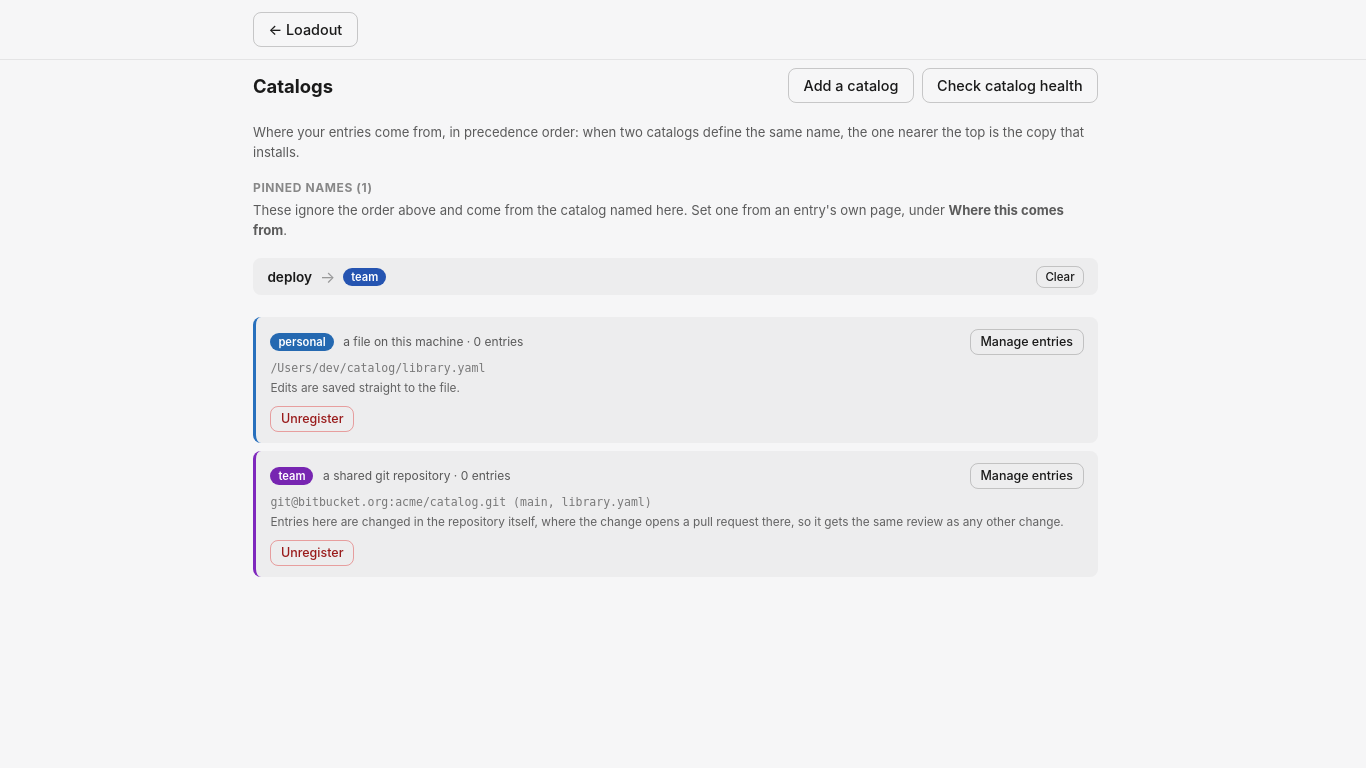
Scenario: UI-43: unregistering › asks first, offers to delete the copies and the clone, and reports what it did
Click the button with class "catalogs__unregister" below "a shared git repository · 0 entries": (312,553) [270,540,354,566]
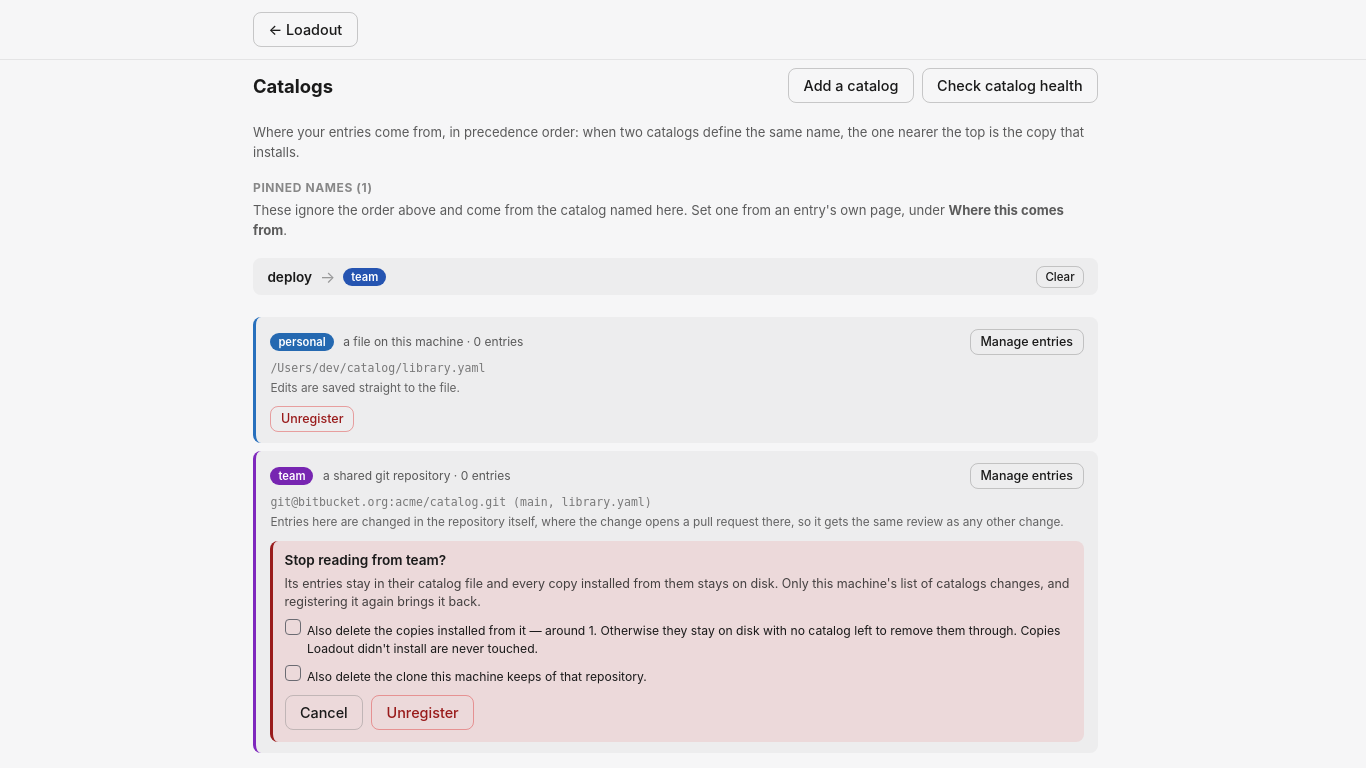
Expected: the text with class "catalogs__question" reads "Stop reading from team?", [285,552,446,568]
Expected: the label with class "catalogs__purge" shows "— around 1", [307,623,1060,656]
Click the 1st checkbox: (293,627) [285,619,301,635]
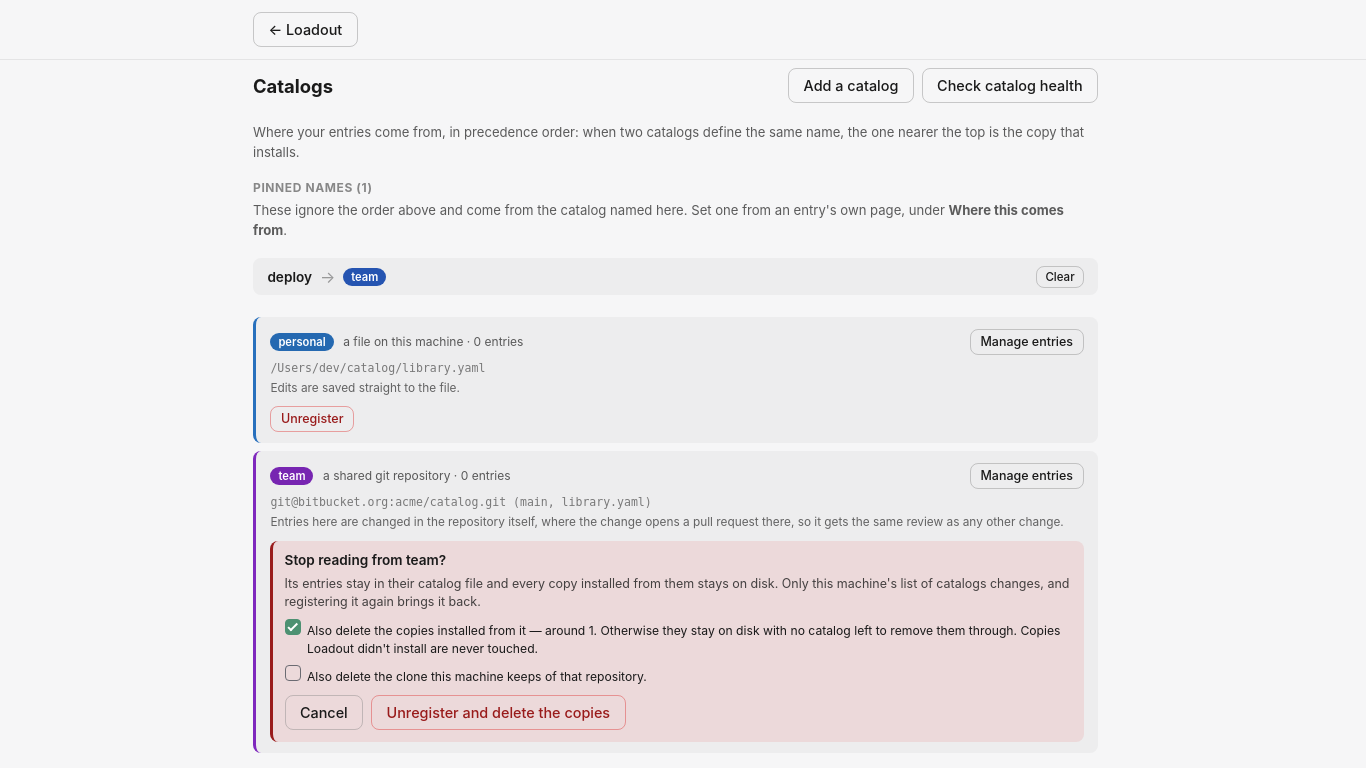
Click the checkbox labelled "Also delete the clone this machine keeps of that repository.": (293,673) [285,665,301,681]
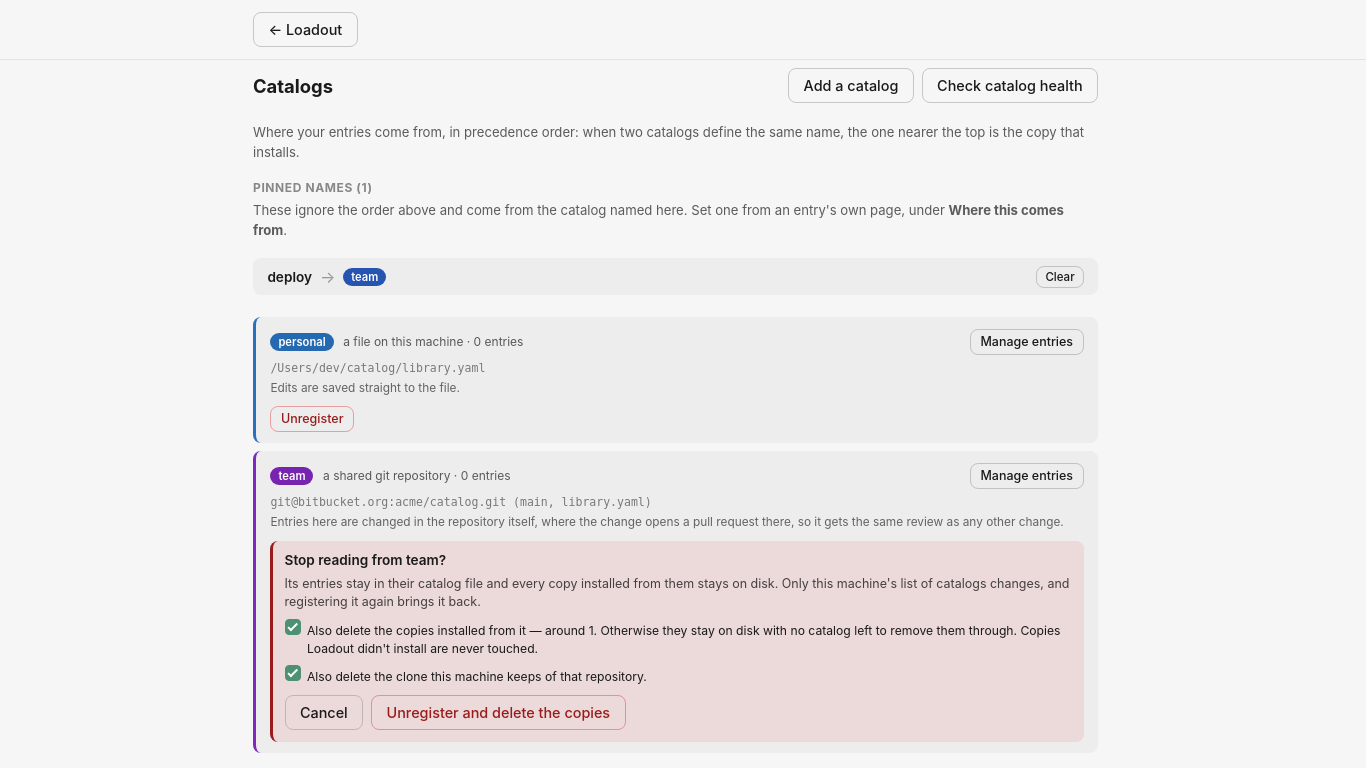
Click the button "Unregister and delete the copies": (498,713) [371,695,626,730]
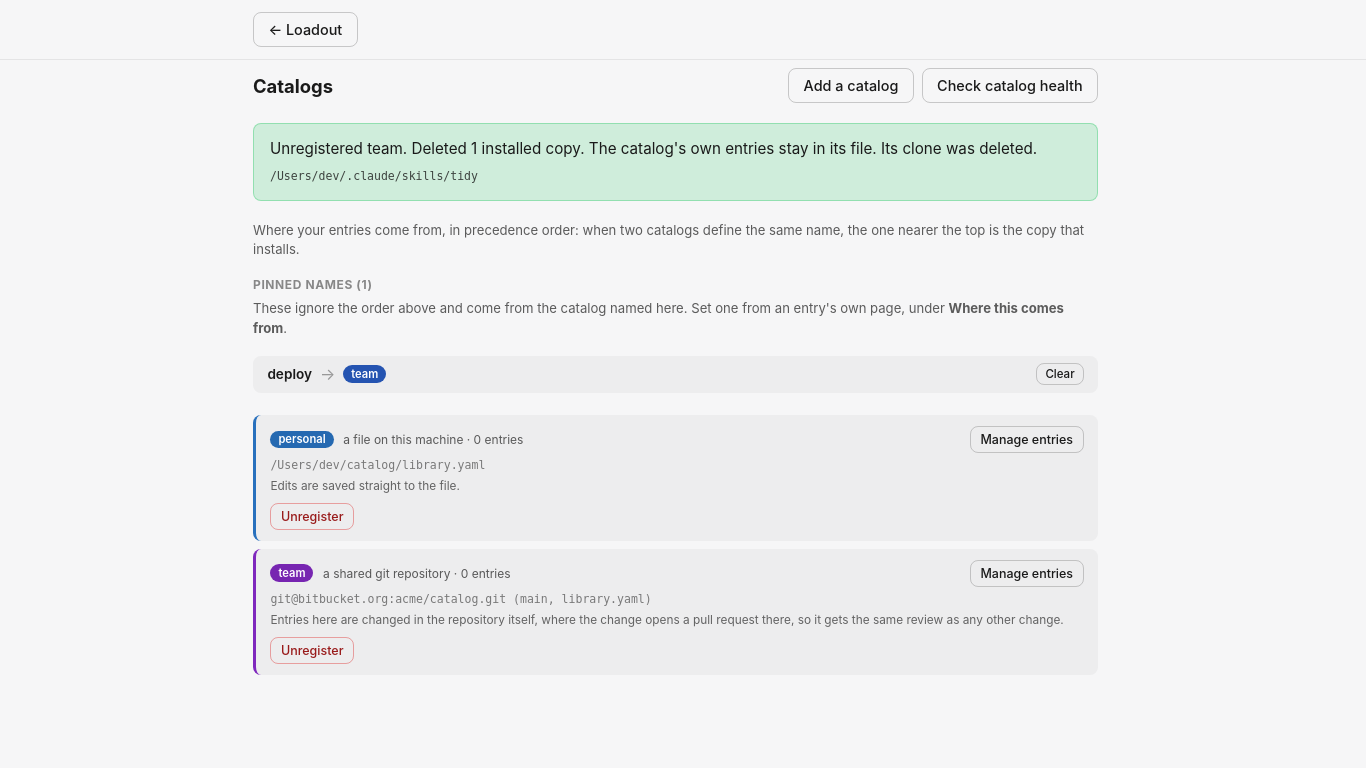
Expected: the message with class "status-banner--success" shows "Unregistered team. Deleted 1 installed copy.", [253,123,1098,200]
Expected: the message with class "status-banner--success" shows "Its clone was deleted.", [881,139,1037,158]
